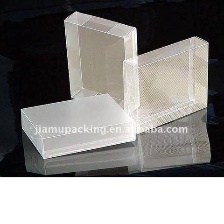plastic_box: (117, 30, 214, 137), (56, 6, 145, 117), (15, 88, 141, 164)
